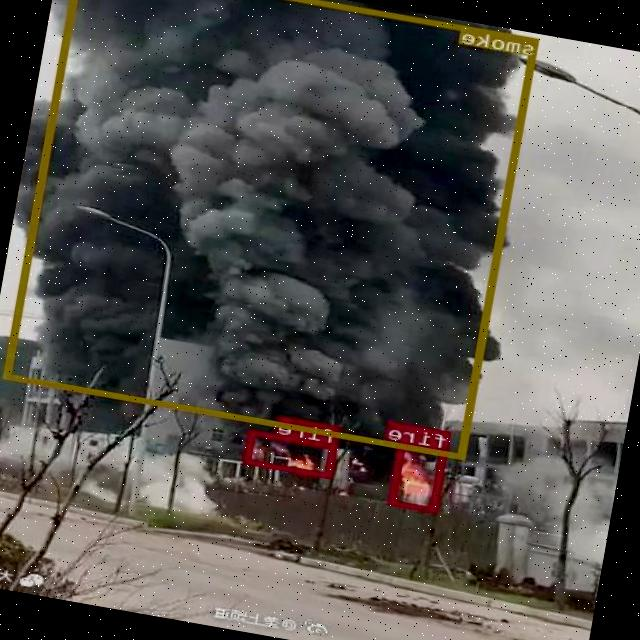fire: (244, 428, 338, 478), (389, 441, 448, 512)
smoke: (4, 0, 539, 459)
